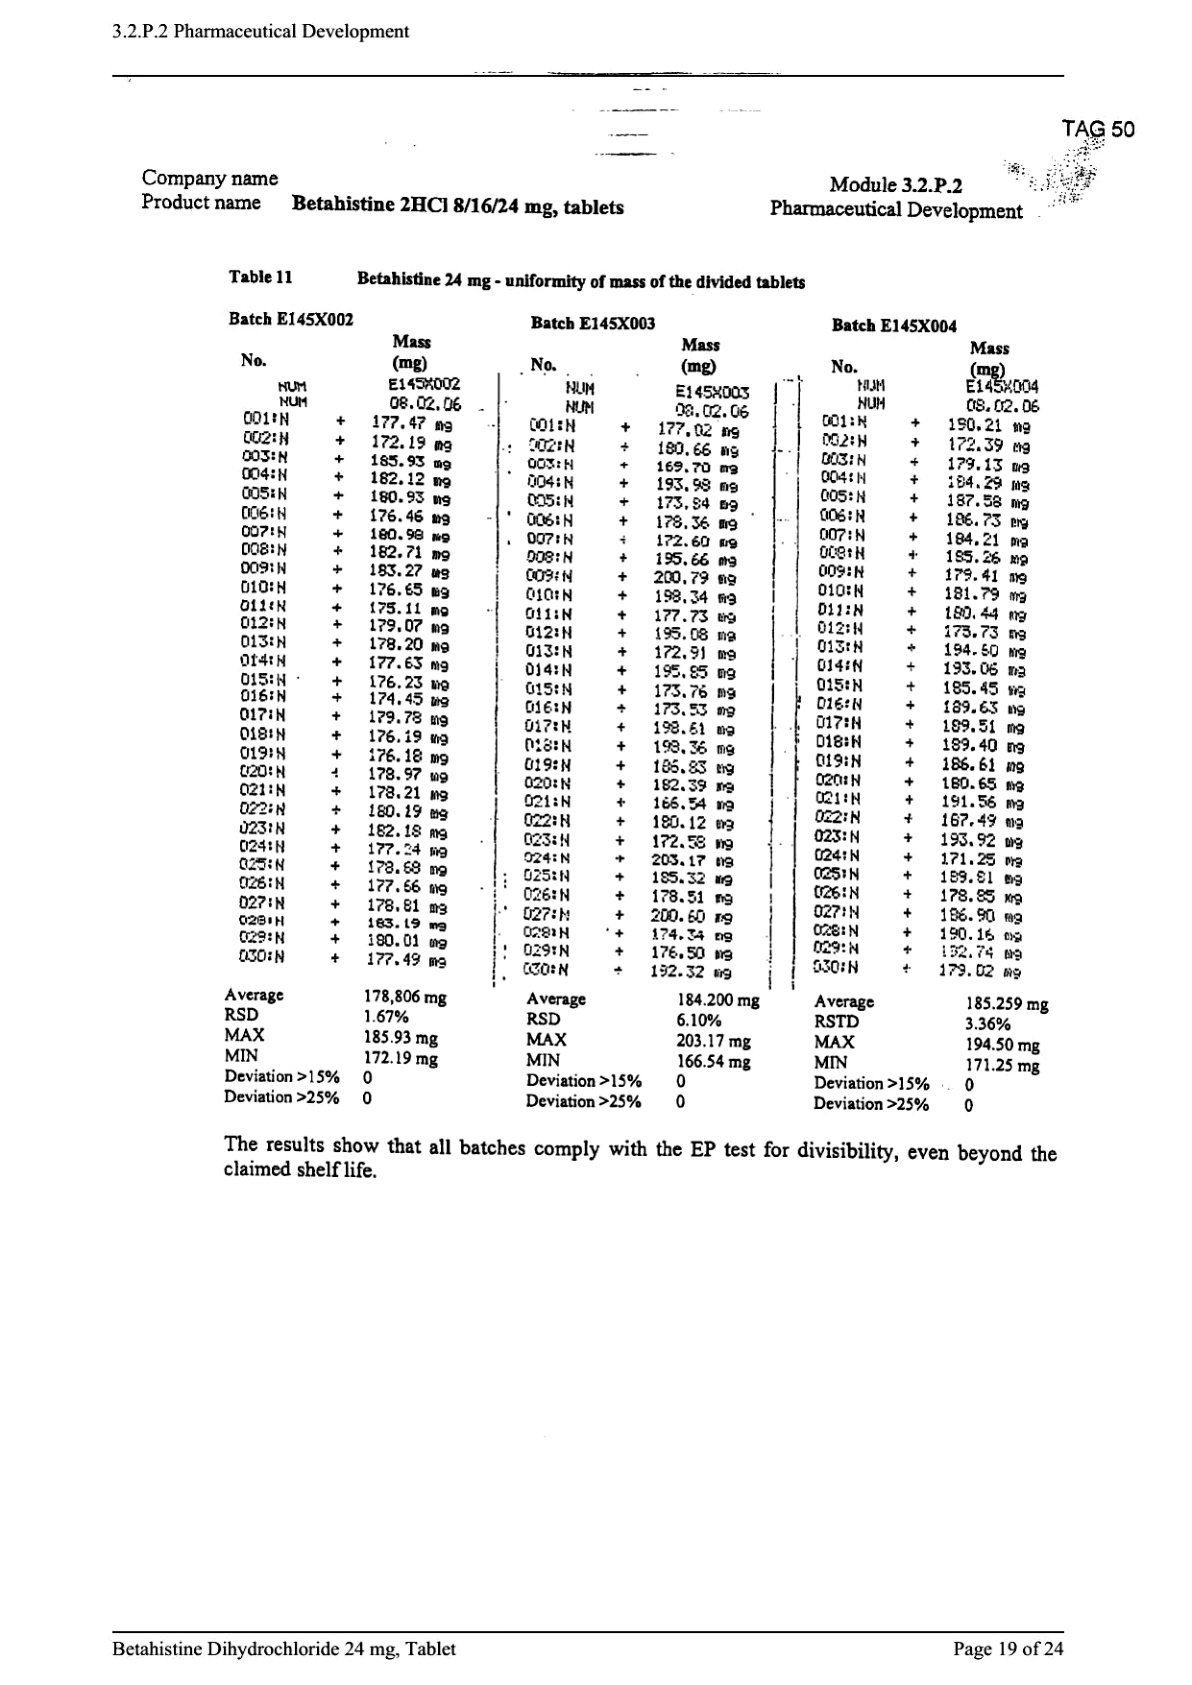nolines: (222, 307, 1051, 1117)
